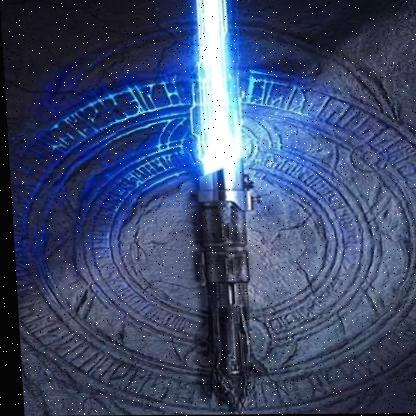lightsaber: (182, 0, 263, 414)
